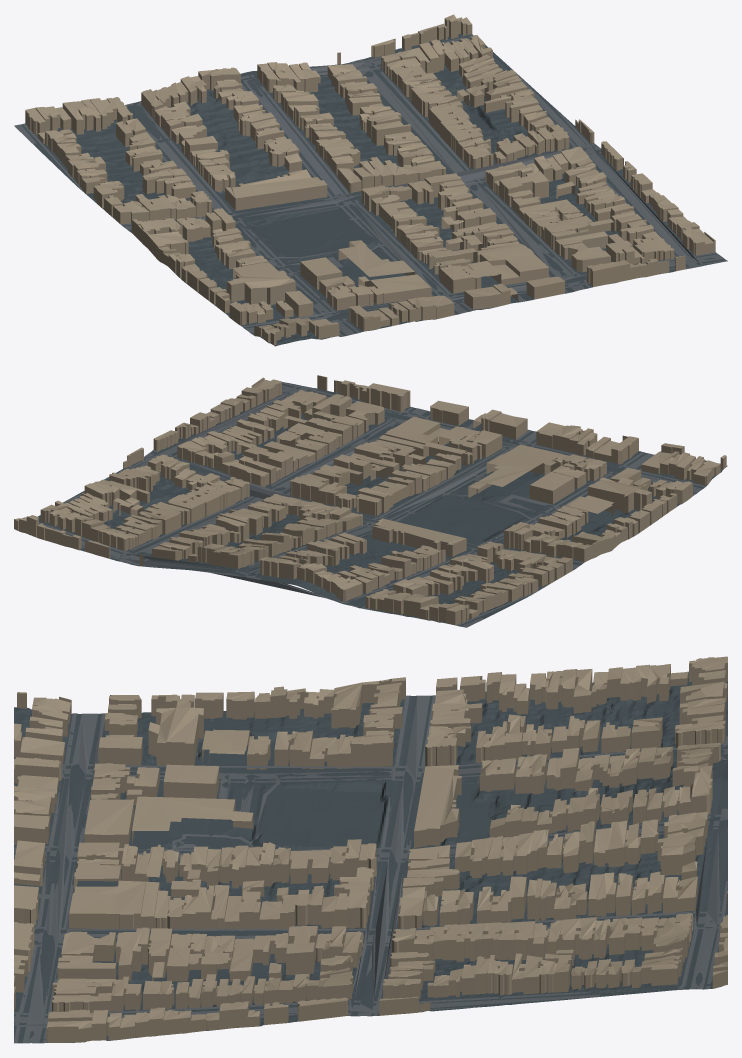
Rendered from epsg26910-1431-10883.lod0.glb.
3 renders of one model, top to bottom at view 1: azimuth 30°, elevation 25°; view 2: azimuth 150°, elevation 25°; view 3: azimuth 270°, elevation 25°, orthographic. The views are drawn at different scales.
Visible parts, largest first — view 1: epsg26910-1431-10883-lod0; view 2: epsg26910-1431-10883-lod0; view 3: epsg26910-1431-10883-lod0.
Part boxes in pixels (x1,y1,x2,y2): epsg26910-1431-10883-lod0: (14, 14, 727, 346); epsg26910-1431-10883-lod0: (14, 375, 727, 627); epsg26910-1431-10883-lod0: (14, 656, 727, 1043).
Size of the model in its own units: 384 by 56.62 by 384.
